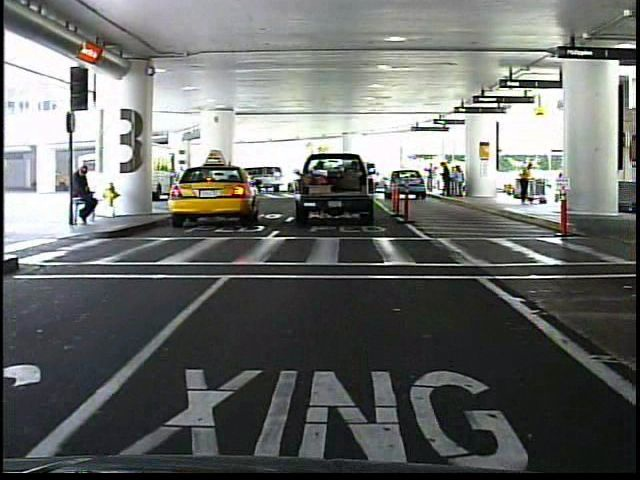person: (73, 160, 101, 230), (514, 158, 535, 209), (425, 162, 437, 196)
